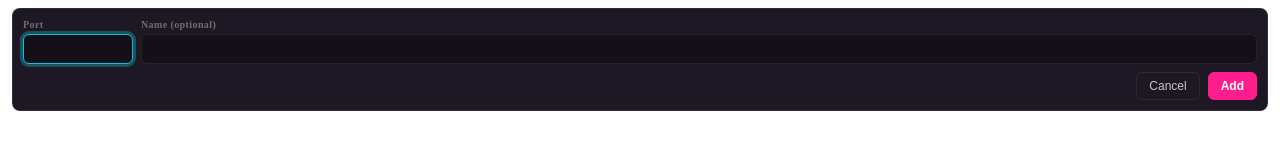
Test: WatchPortForm › on failure stays open, shows an inline error and preserves typed values
The width and height of the screenshot is (1280, 160).
Type "3000" into the field labelled "Port" at (78, 49), box [23, 34, 133, 64]
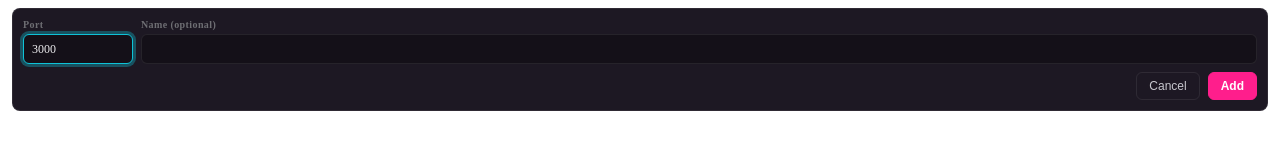
Submit the form labelled "Port"
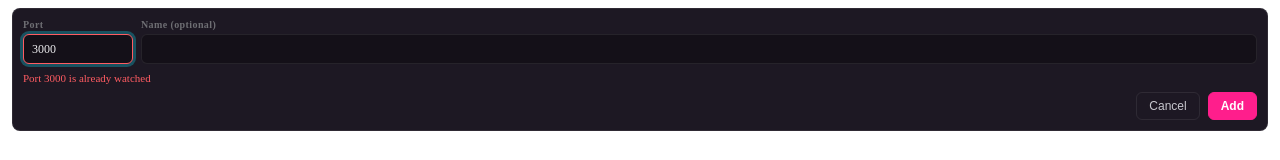
Result: the text "Port 3000 is already watched" is shown at [23, 72, 151, 84]
